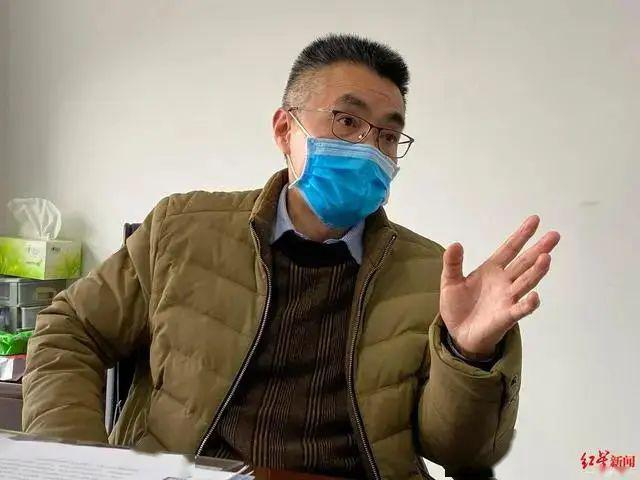mask: (297, 67, 407, 223)
